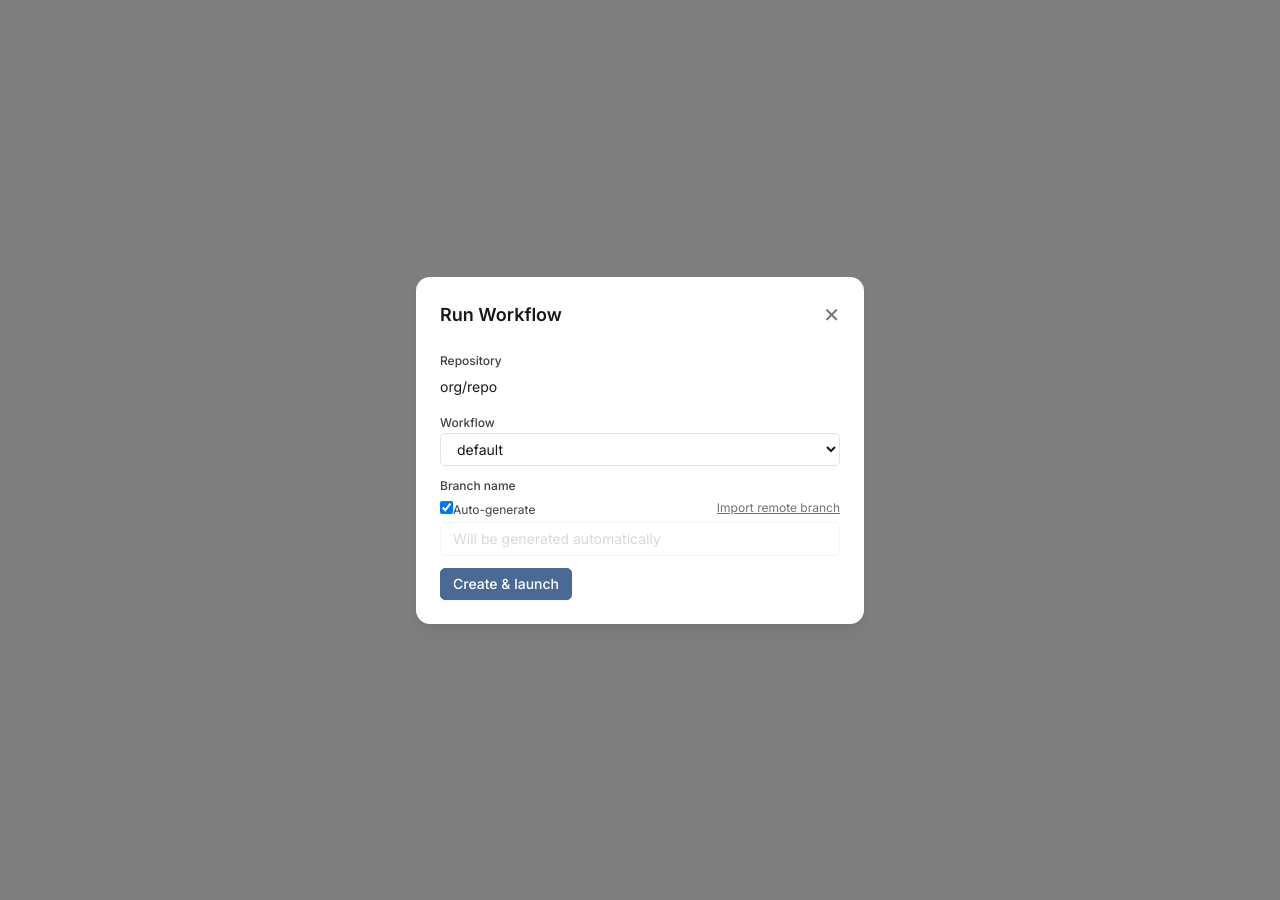
Test: RunWorkflowModal › import remote branch mode › fetches and displays remote branches when import button is clicked
Expected: the text "Auto-generate" is shown, [453,502,535,516]
Step 1. Click the button "Import remote branch" → (778, 508), box [717,500,840,516]
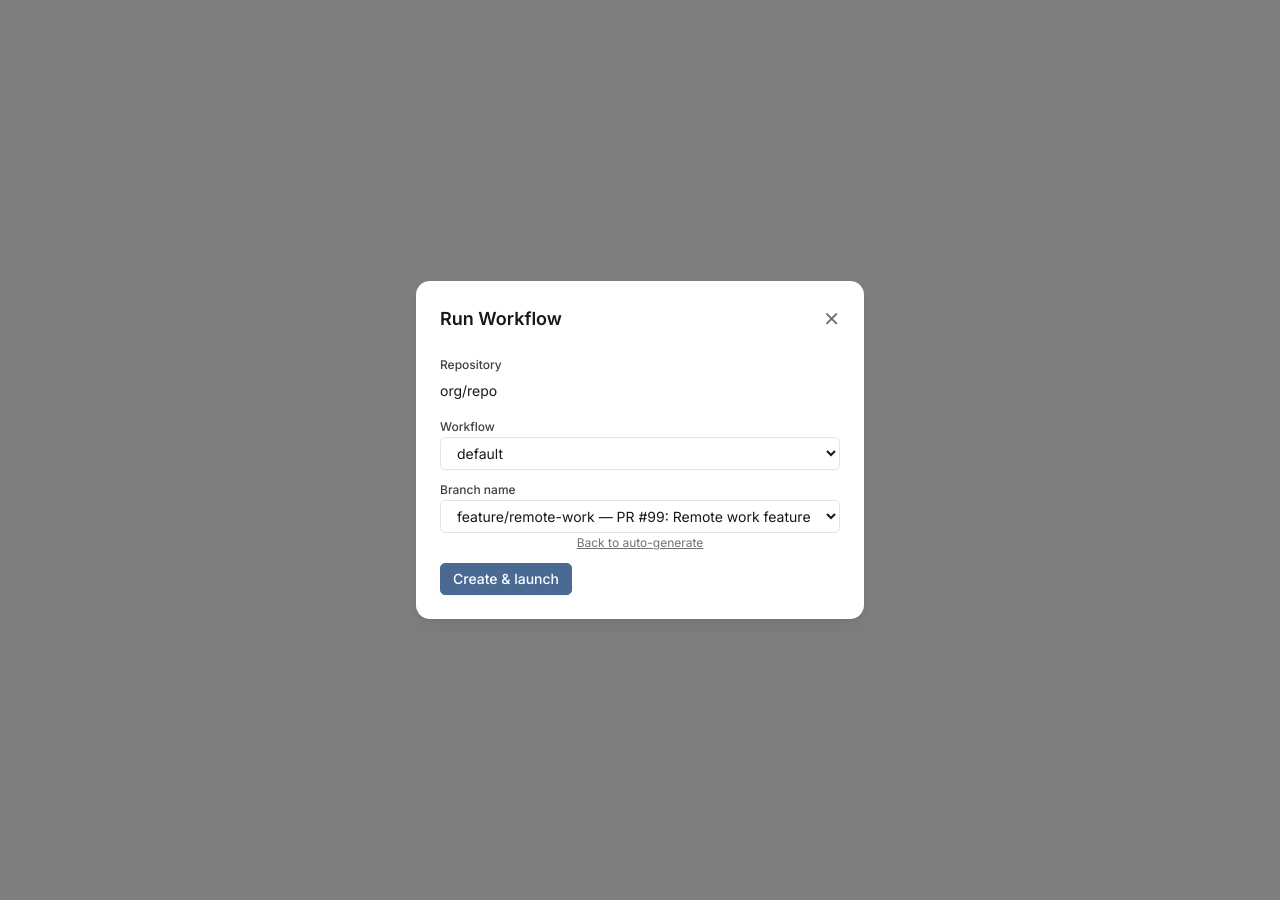
Now the dropdown labelled "Branch name" is shown, box [440,500,840,533]
